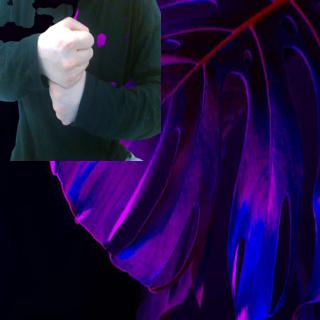CAREFUL: (33, 13, 94, 129)
